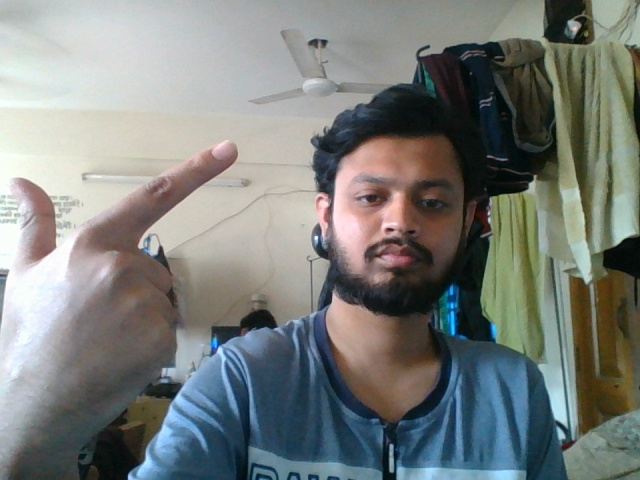tho: (1, 131, 242, 448)
